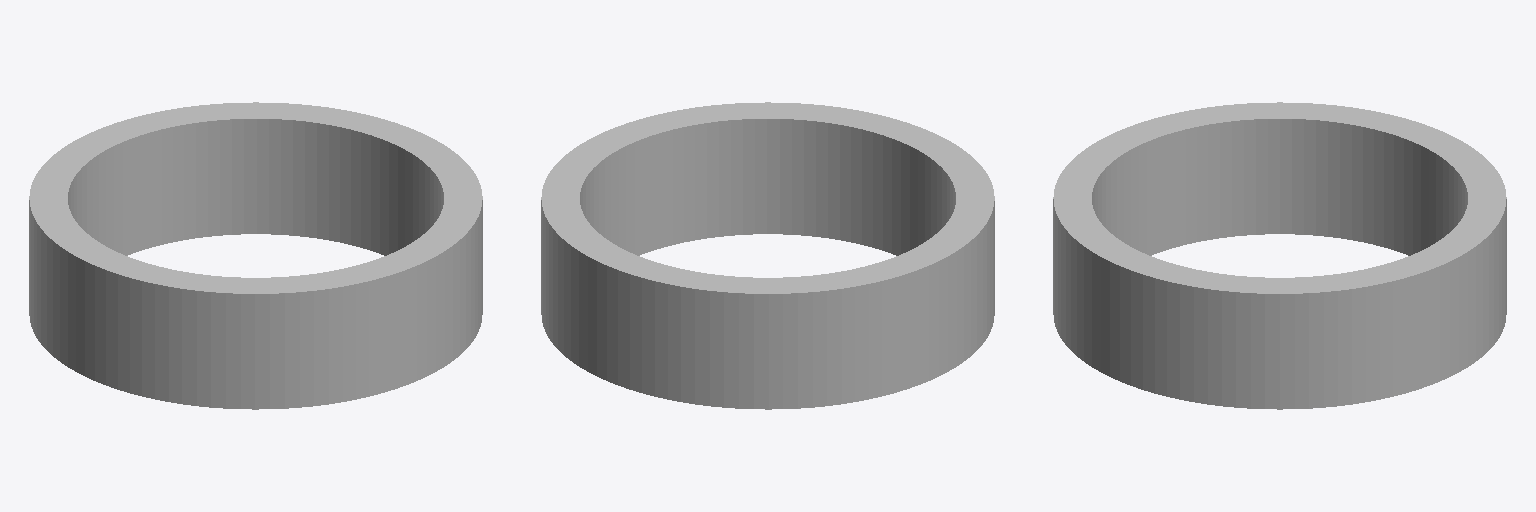
File: ring1.obj
3 renders of one model, left to right at view 1: azimuth 30°, elevation 25°; view 2: azimuth 150°, elevation 25°; view 3: azimuth 270°, elevation 25°, orthographic.
Parts seen in each view (by area): view 1: JewelCAD; view 2: JewelCAD; view 3: JewelCAD.
Boxes of the visible parts, x1=… form: JewelCAD: x1=29, y1=102, x2=482, y2=409; JewelCAD: x1=541, y1=102, x2=994, y2=409; JewelCAD: x1=1053, y1=102, x2=1506, y2=409.
Bounding box in the file's own units: 22.4 × 6.3 × 22.39.